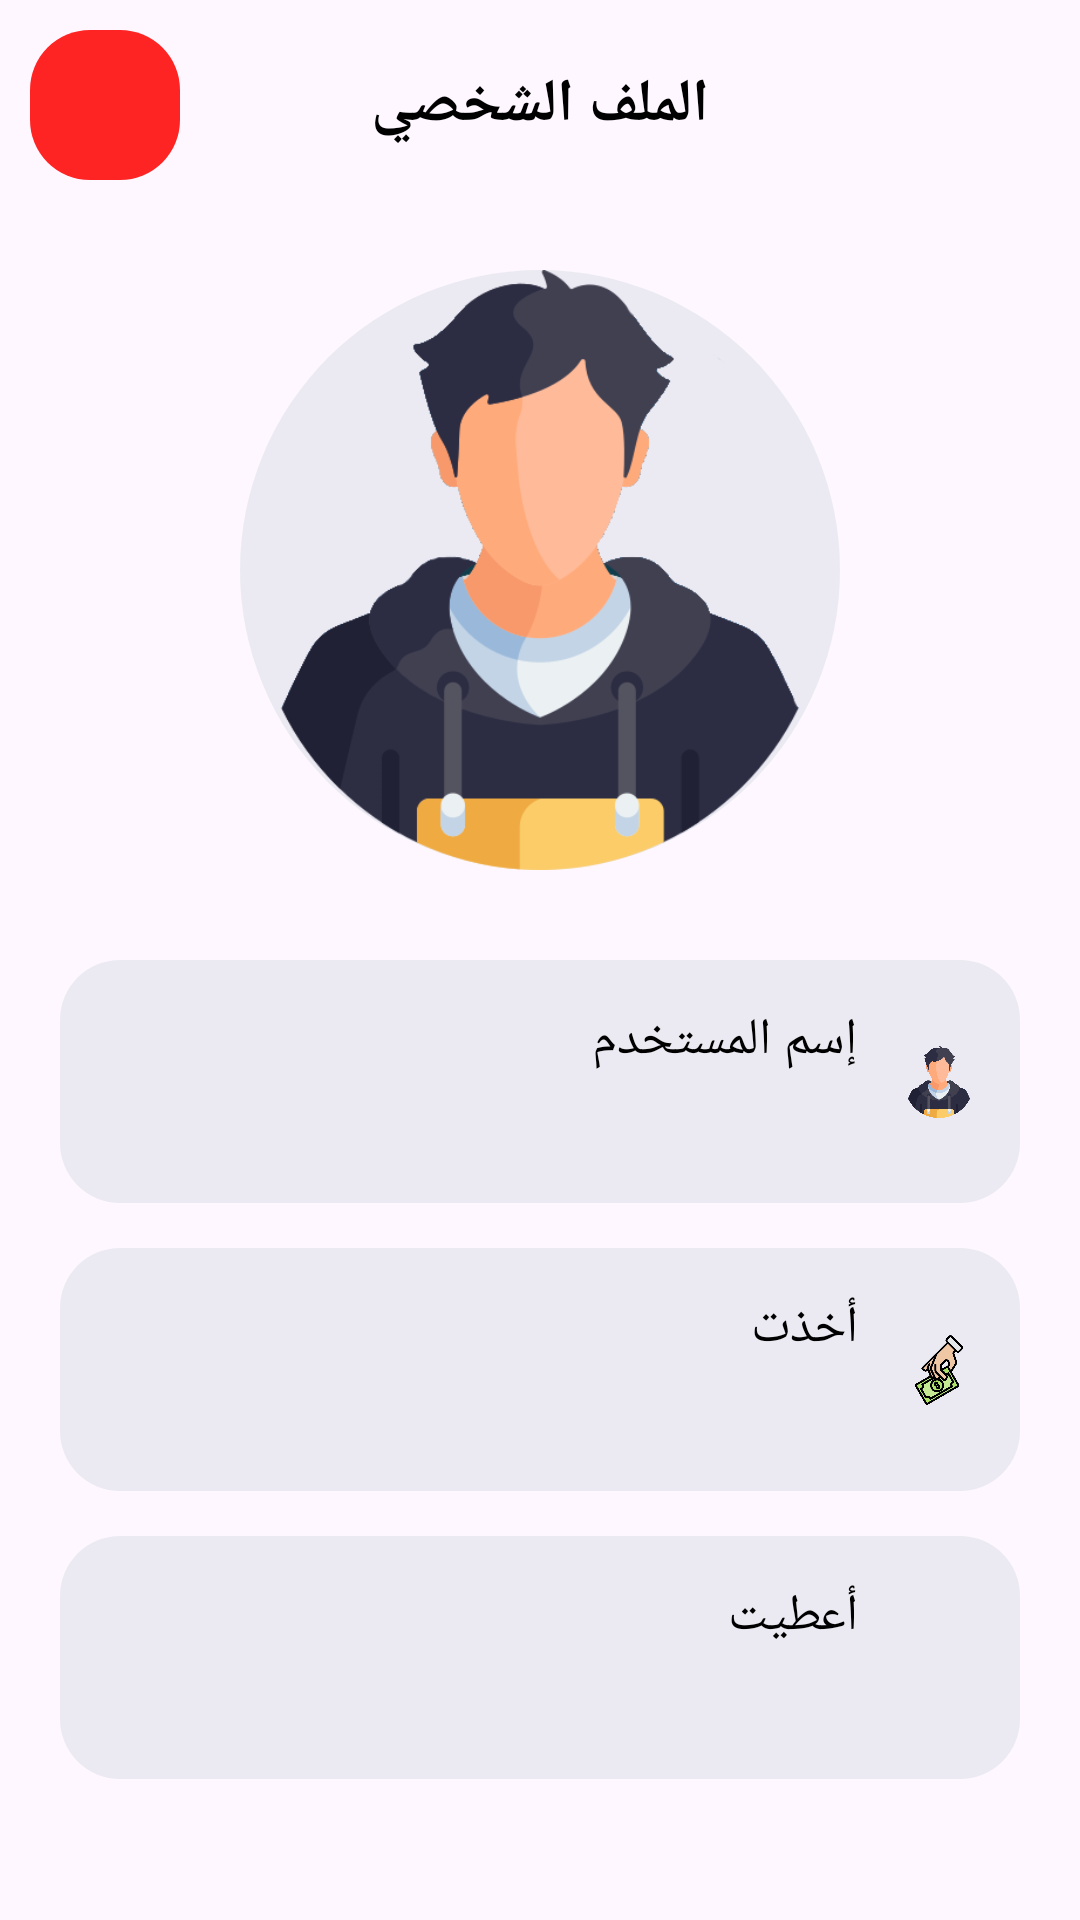

Screen size 1080*1920. Icon name, then its center in pixels as (x,y):
take money: (939,1370)
